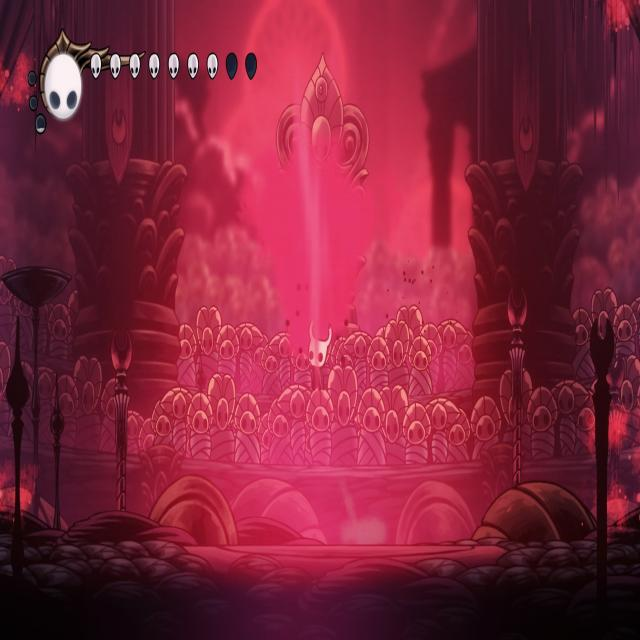Player: (306, 315, 334, 395)
